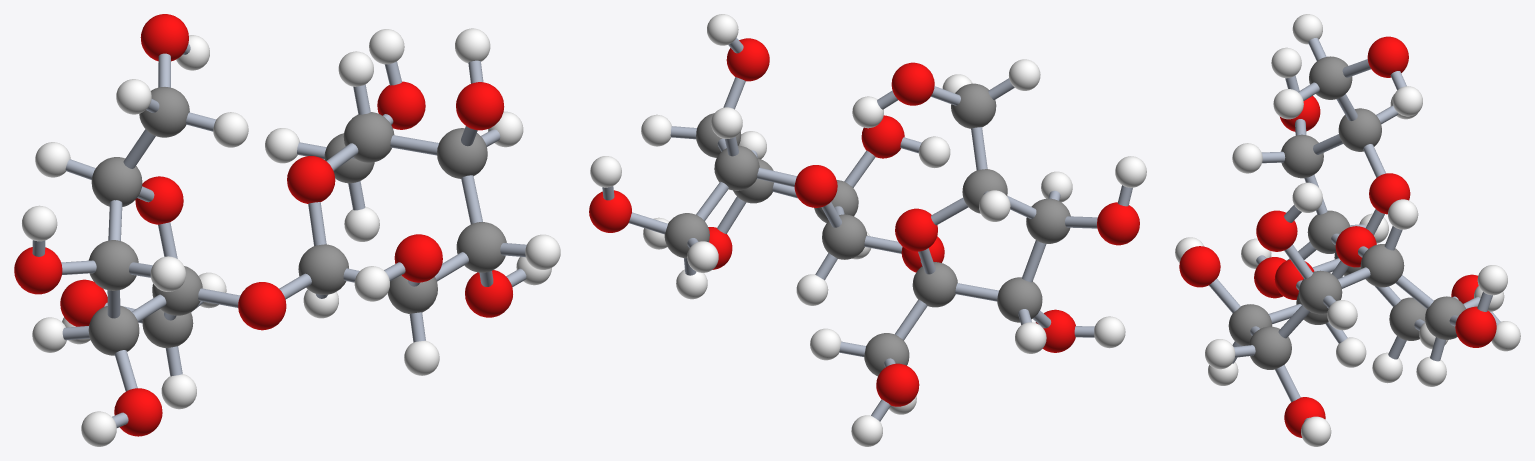
File: sucrose.glb
3 renders of one model, left to right at view 1: azimuth 30°, elevation 25°; view 2: azimuth 150°, elevation 25°; view 3: azimuth 270°, elevation 25°, orthographic. The views are drawn at different scales.
Visible parts, largest first — view 1: C (×12), O (×11), H (×20), bond (×7); view 2: C (×12), O (×11), H (×17); view 3: C (×10), H (×19), O (×11), bond (×7).
Part boxes in pixels (x1,y1,x2,y2): C (×12): (88, 87, 506, 355); O (×11): (14, 14, 512, 436); H (×20): (22, 28, 560, 446); bond (×7): (108, 129, 482, 391); C (×12): (664, 83, 1070, 376); O (×11): (589, 38, 1139, 406); H (×17): (590, 14, 1146, 446); C (×10): (1228, 56, 1466, 369); H (×19): (1175, 14, 1520, 446); O (×11): (1179, 36, 1496, 437); bond (×7): (1209, 144, 1433, 402).
Size of the model in its own units: 0.22 by 0.1528 by 0.1419.
